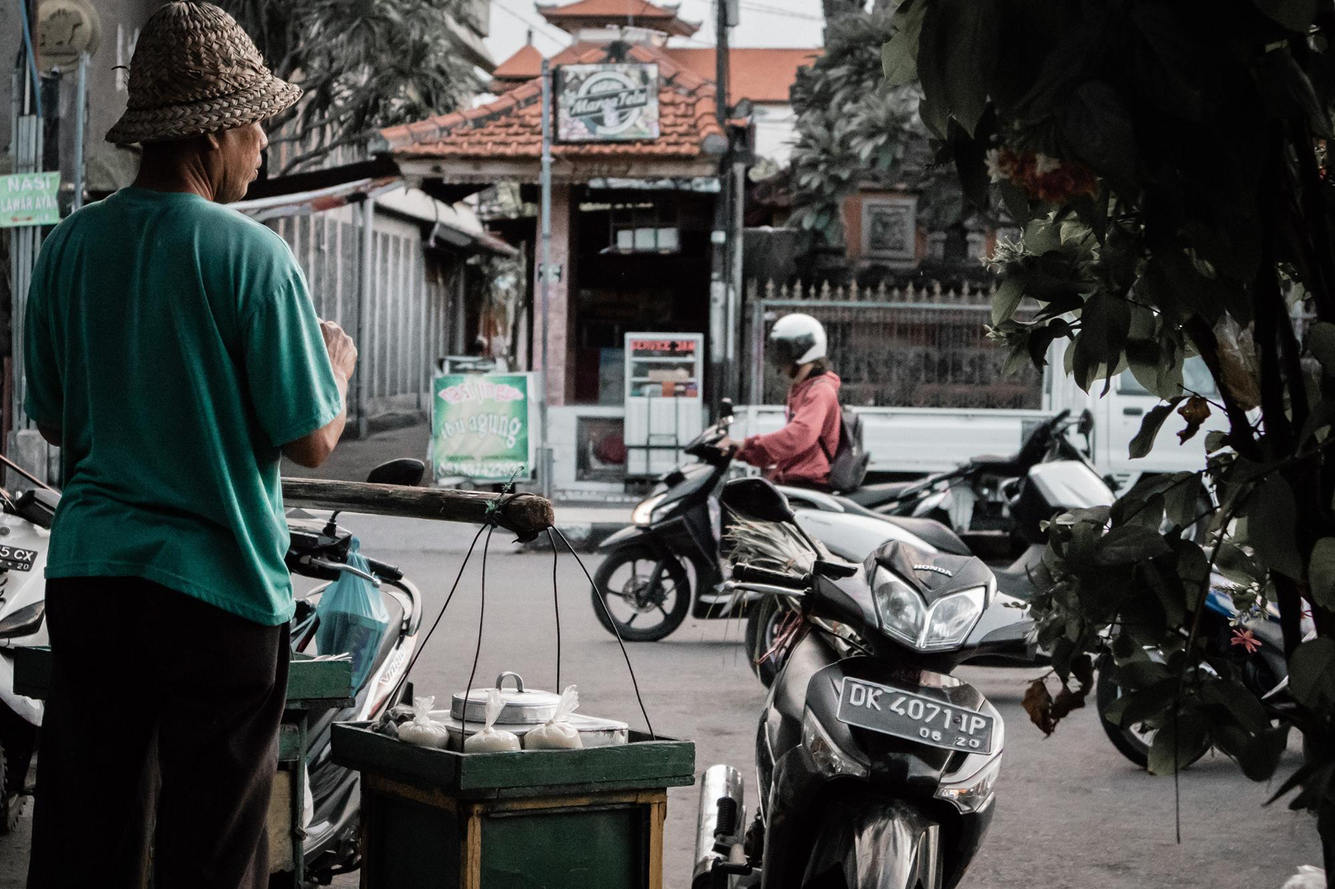helmet: (762, 312, 830, 383)
nohelmet: (104, 0, 306, 209)
